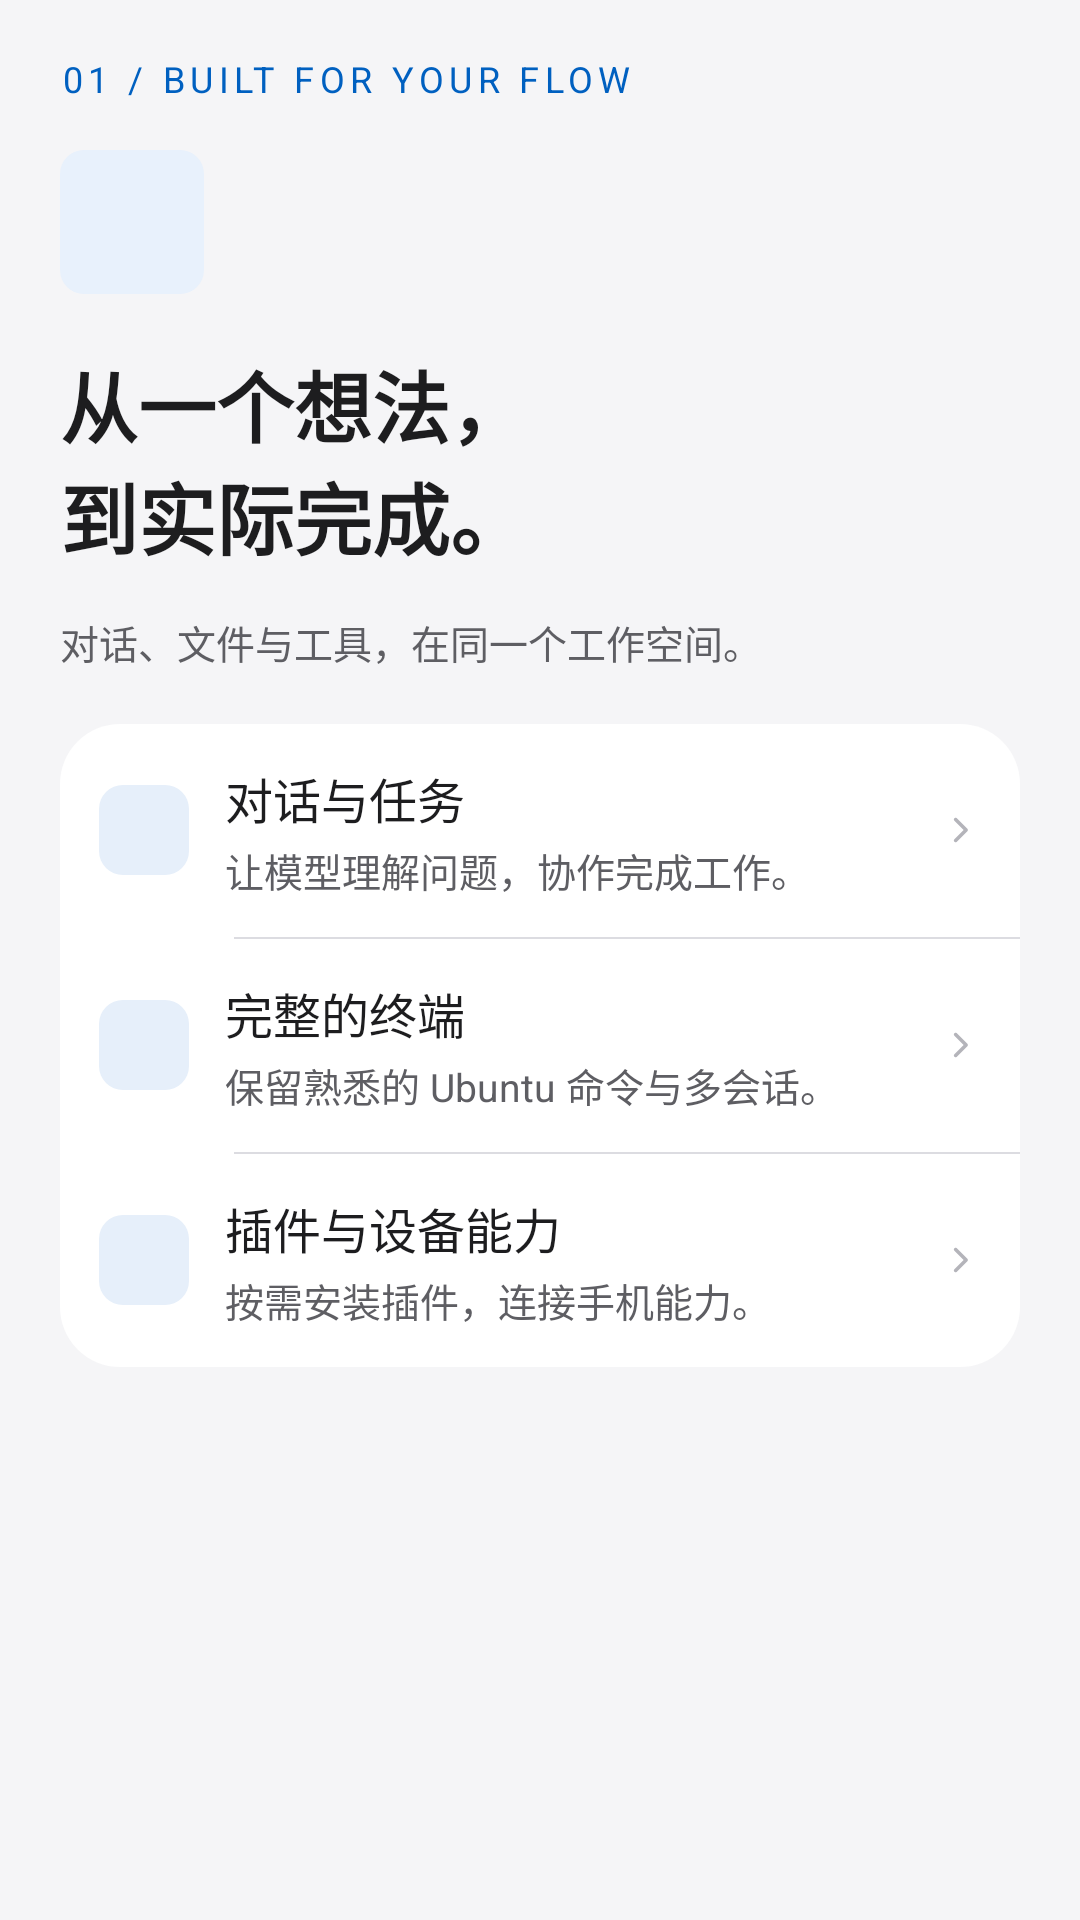

Point at icon controls on the screen. Image size 1080*1920, points as [x,y].
ui chevron: [961,830], [961,1045], [961,1260]
